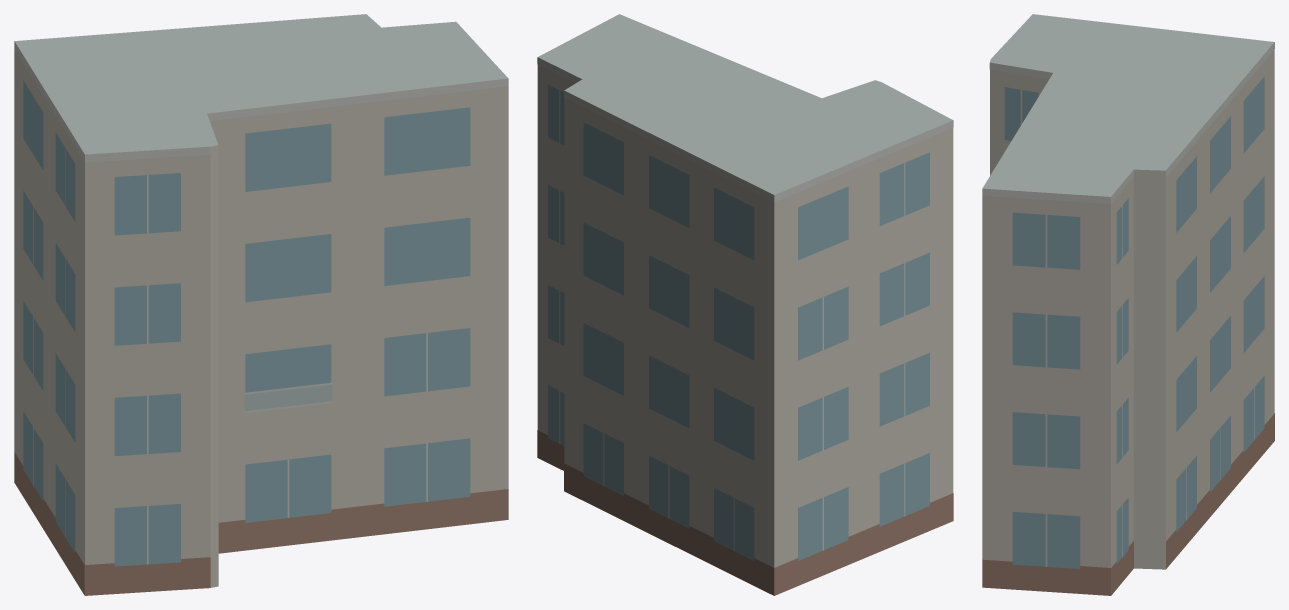
File: survey-upis-32462408.glb
3 renders of one model, left to right at view 1: azimuth 30°, elevation 25°; view 2: azimuth 150°, elevation 25°; view 3: azimuth 270°, elevation 25°, orthographic. The views are drawn at different scales.
Parts seen in each view (by area): view 1: survey-upis-32462408.tmp; view 2: survey-upis-32462408.tmp; view 3: survey-upis-32462408.tmp.
Part boxes in pixels (box(x1,y1,x2,y2)): survey-upis-32462408.tmp: box(14, 14, 508, 595); survey-upis-32462408.tmp: box(537, 14, 953, 595); survey-upis-32462408.tmp: box(982, 14, 1274, 595).
Bounding box in the file's own units: 13.48 × 13.7 × 9.11.
